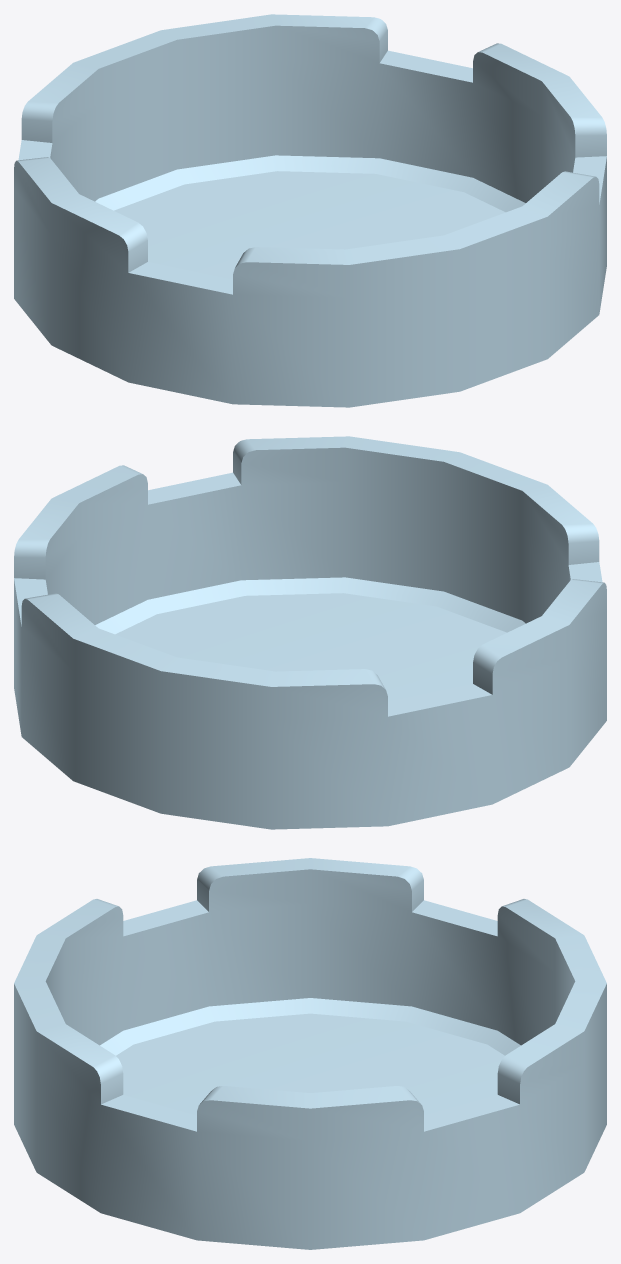
File: Cendar.fbx
The picture shows the model from 3 angles, top to bottom: view 1: azimuth 30°, elevation 25°; view 2: azimuth 150°, elevation 25°; view 3: azimuth 270°, elevation 25°; orthographic projection.
Parts seen in each view (by area): view 1: Circle; view 2: Circle; view 3: Circle.
Part boxes in pixels (x1,y1,x2,y2): Circle: (14, 14, 606, 407); Circle: (14, 436, 606, 829); Circle: (14, 858, 606, 1249).
Bounding box in the file's own units: 200 × 53.38 × 200.
